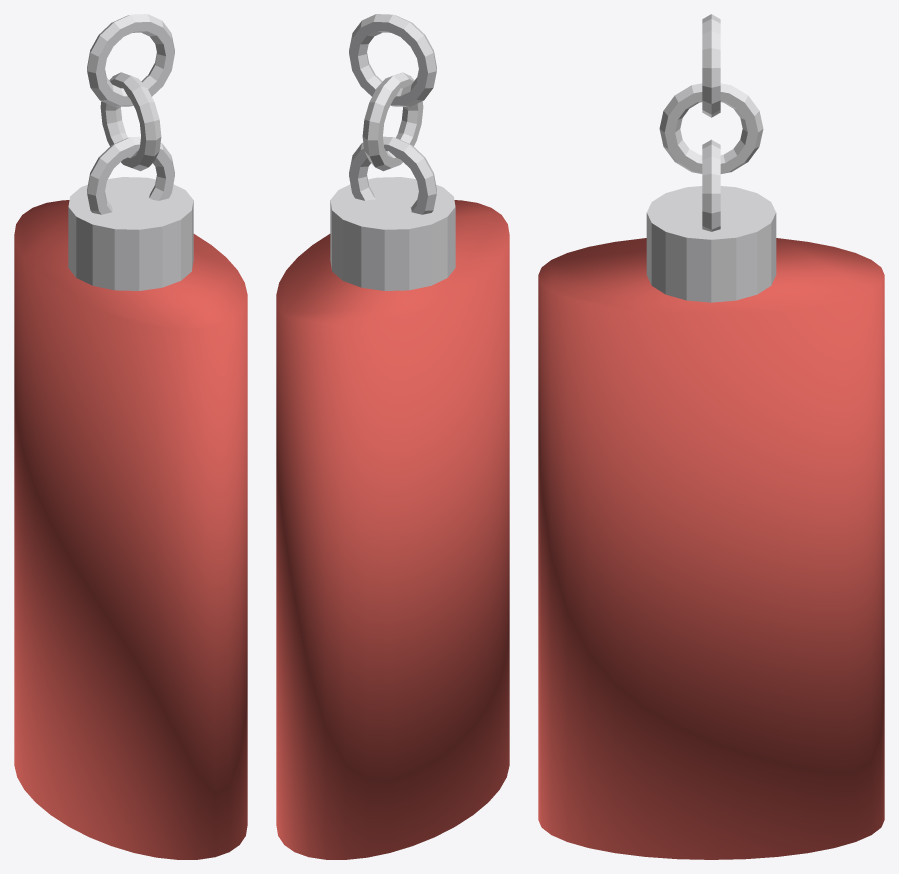
Rendered from demo_fuel_flask.glb.
3 renders of one model, left to right at view 1: azimuth 30°, elevation 25°; view 2: azimuth 150°, elevation 25°; view 3: azimuth 270°, elevation 25°, orthographic. The views are drawn at different scales.
Parts seen in each view (by area): view 1: demo_fuel_flask; view 2: demo_fuel_flask; view 3: demo_fuel_flask.
Part boxes in pixels (x1,y1,x2,y2): demo_fuel_flask: (14, 14, 247, 859); demo_fuel_flask: (276, 14, 509, 859); demo_fuel_flask: (538, 14, 884, 859).
Size of the model in its own units: 0.00825 by 0.0382 by 0.015.
